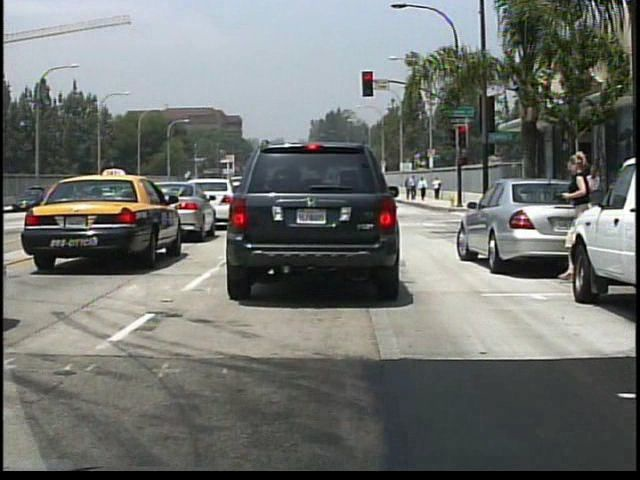person: (552, 149, 599, 282), (580, 162, 605, 233), (432, 175, 443, 202), (408, 174, 418, 200), (419, 174, 428, 201), (404, 177, 413, 199)
